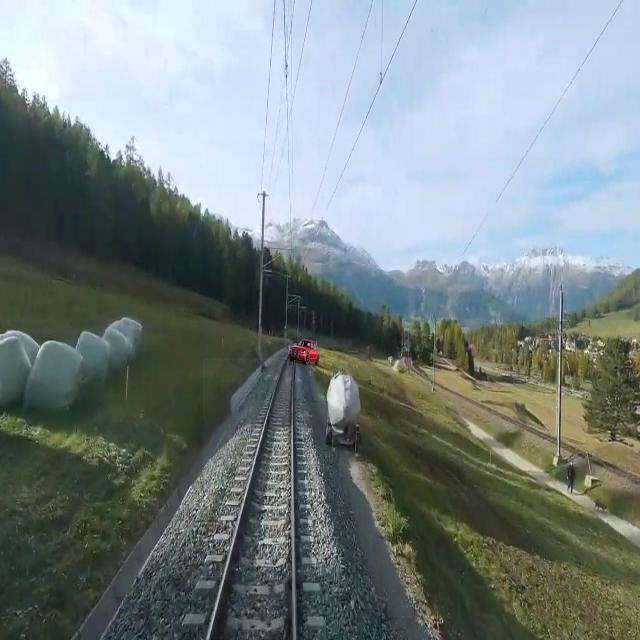rail: (204, 359, 289, 640), (292, 363, 298, 640)
